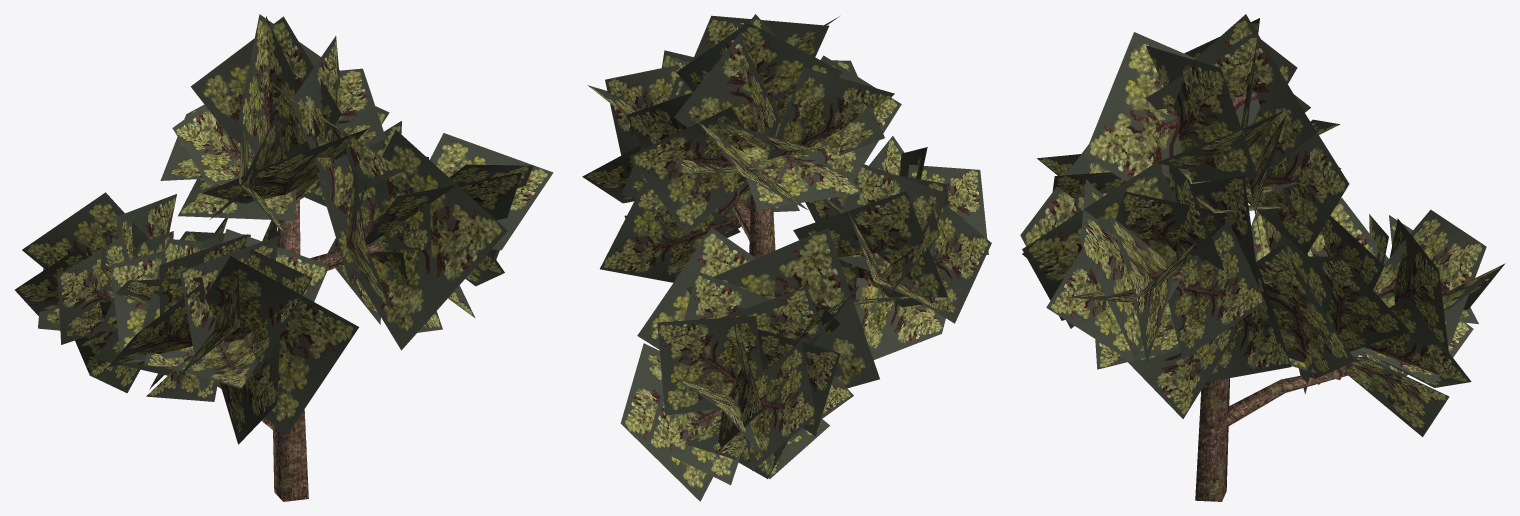
The model's file is OZ_00_wv_T04tree01A.glb.
3 views of the same model, side by side, from view 1: azimuth 30°, elevation 25°; view 2: azimuth 150°, elevation 25°; view 3: azimuth 270°, elevation 25° (orthographic). The views are drawn at different scales.
Parts seen in each view (by area): view 1: OM_00_wv_T04tree01A; view 2: OM_00_wv_T04tree01A; view 3: OM_00_wv_T04tree01A.
Part boxes in pixels (bbox=[...]): OM_00_wv_T04tree01A: bbox=[15, 14, 553, 501]; OM_00_wv_T04tree01A: bbox=[582, 14, 991, 501]; OM_00_wv_T04tree01A: bbox=[1020, 14, 1505, 501].
Bounding box in the file's own units: 13.79 × 14.85 × 13.68.
2 materials, 2 textured.
